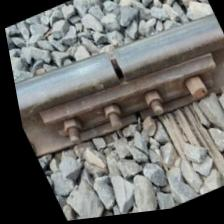person: (74, 30, 150, 105), (117, 104, 148, 136)
